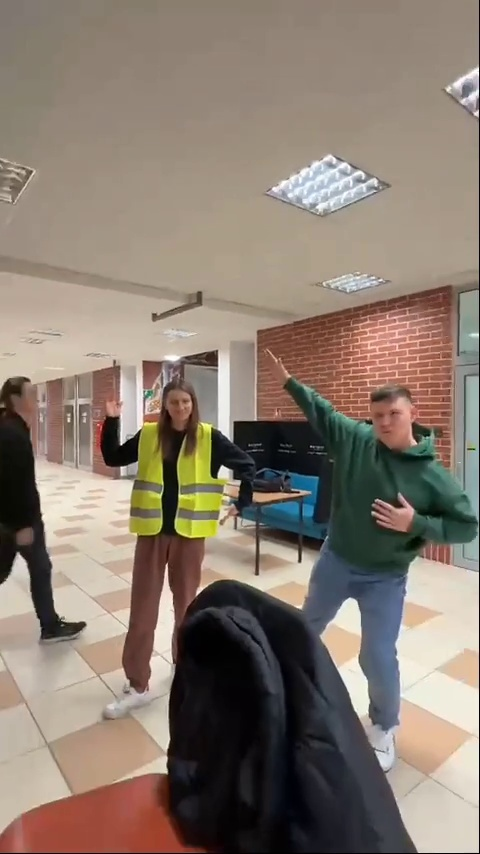no vest: (278, 357, 468, 730), (0, 363, 87, 643)
vest: (111, 373, 252, 756)
